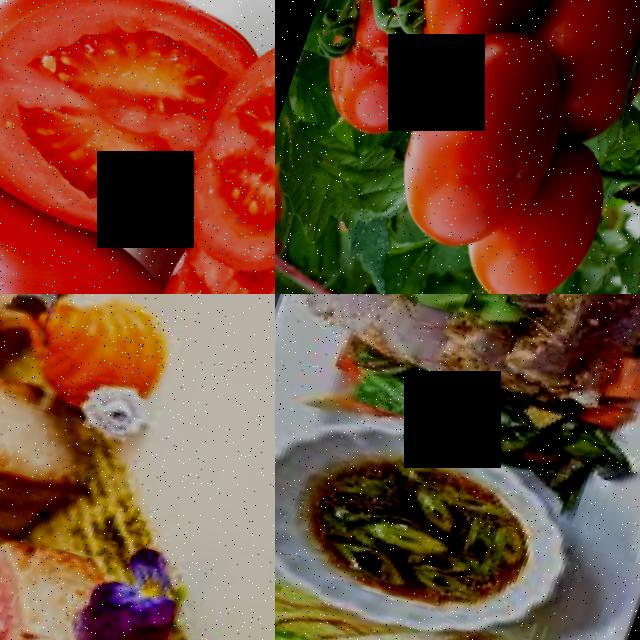tomato: (0, 0, 275, 289), (372, 6, 592, 281), (158, 4, 275, 294), (0, 144, 193, 294), (382, 0, 574, 93)
